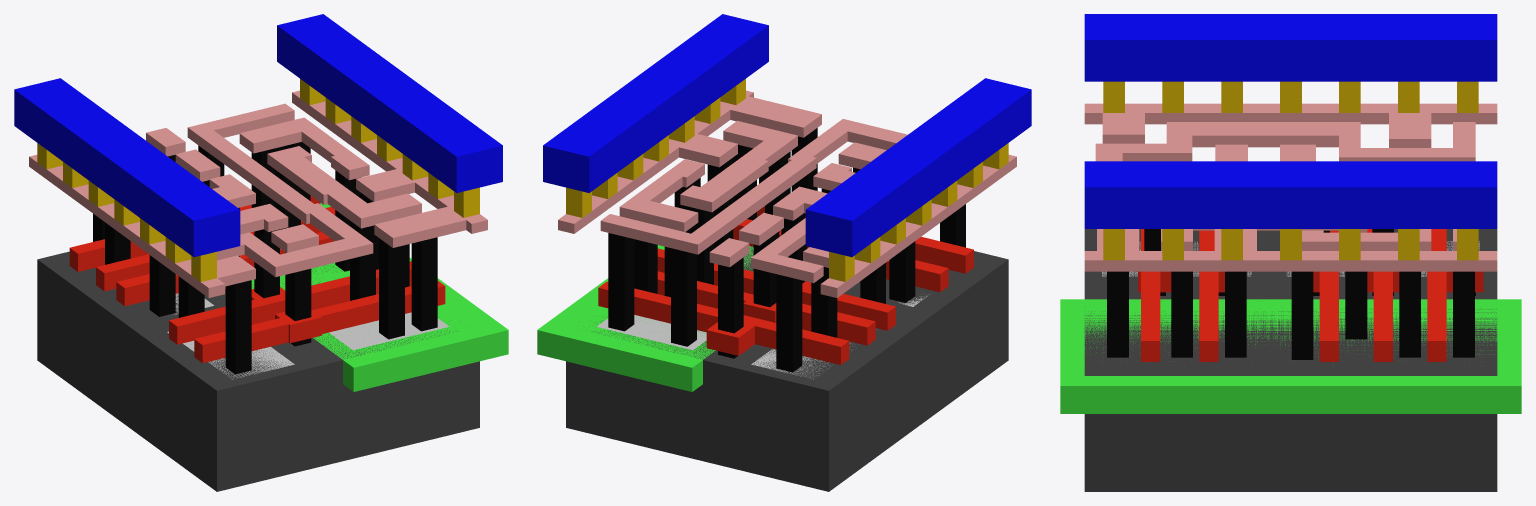
File: sky130_fd_sc_hd__a221oi_1.obj
3 renders of one model, left to right at view 1: azimuth 30°, elevation 25°; view 2: azimuth 150°, elevation 25°; view 3: azimuth 270°, elevation 25°, orthographic. The views are drawn at different scales.
Parts seen in each view (by area): view 1: subs, metal1, li, licon, poly, nwell, mcon, tap, diff; view 2: subs, metal1, li, licon, poly, nwell, mcon, tap, diff; view 3: metal1, subs, li, nwell, licon, poly, mcon.
Boxes of the visible parts, x1,y1,x2,y2 form: subs: (37, 251, 479, 491); metal1: (14, 14, 502, 257); li: (29, 90, 487, 297); licon: (93, 142, 437, 374); poly: (69, 196, 445, 363); nwell: (251, 203, 508, 391); mcon: (37, 79, 479, 281); tap: (329, 312, 449, 350); diff: (167, 293, 294, 379); subs: (566, 246, 1008, 491); metal1: (543, 14, 1031, 257); li: (558, 90, 1016, 297); licon: (608, 128, 965, 372); poly: (598, 206, 973, 364); nwell: (537, 245, 753, 391); mcon: (566, 79, 1008, 281); tap: (596, 247, 752, 350); diff: (751, 294, 929, 379); metal1: (1084, 14, 1497, 228); subs: (1084, 229, 1497, 491); li: (1084, 103, 1497, 271); nwell: (1060, 299, 1521, 413); licon: (1107, 229, 1475, 359); poly: (1138, 229, 1483, 361); mcon: (1103, 81, 1478, 260).
Bounding box in the file's own units: 3.2 × 2.74 × 3.6.
